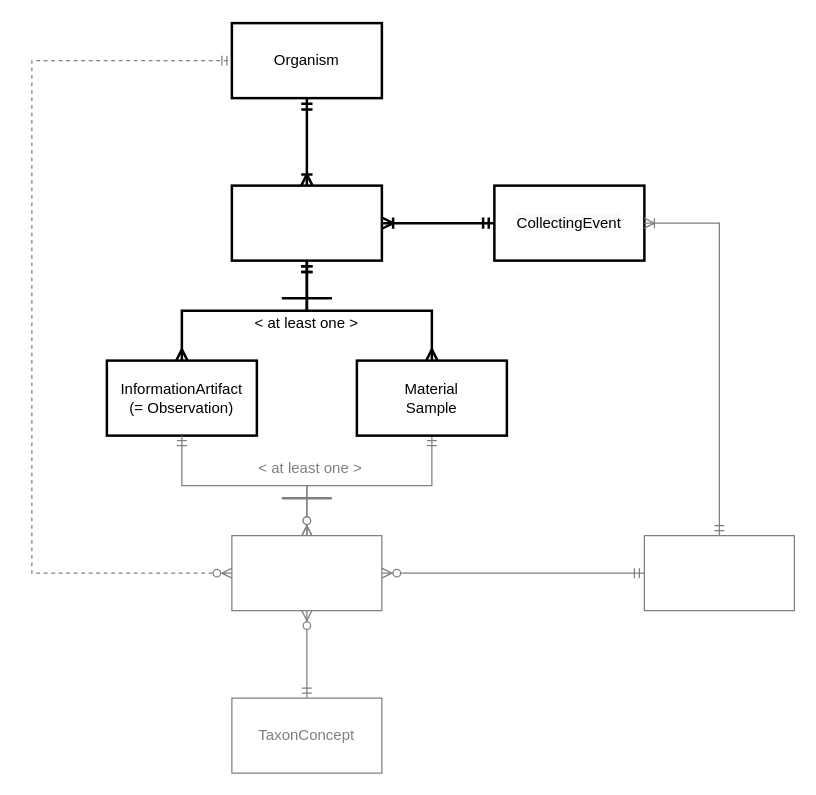
Image size: 816x795. Some labels were removed from this diagram. The shapes that lost their labels are listed below. From the top down, each one's centre as x and y in pixels, then its label:
At (x=306, y=222): "Occurrence (Organism+ SamplingProcess+ Result)".
At (x=306, y=572): "Determination".
At (x=718, y=572): "Agent (Person or Team)".
